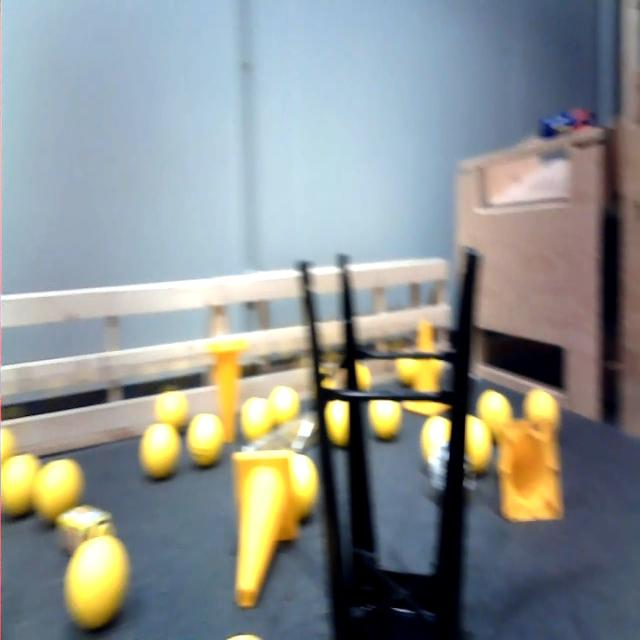fuel: (67, 528, 130, 622), (137, 416, 183, 486), (34, 456, 84, 520), (521, 382, 568, 437), (2, 450, 41, 516), (466, 409, 499, 474), (186, 412, 224, 467), (149, 385, 193, 432), (476, 389, 516, 440), (417, 409, 455, 455), (239, 395, 276, 442), (268, 384, 304, 426), (368, 398, 402, 440), (326, 394, 353, 445), (395, 343, 419, 378), (354, 358, 377, 393), (223, 624, 268, 640), (0, 418, 17, 457), (325, 368, 345, 388)
